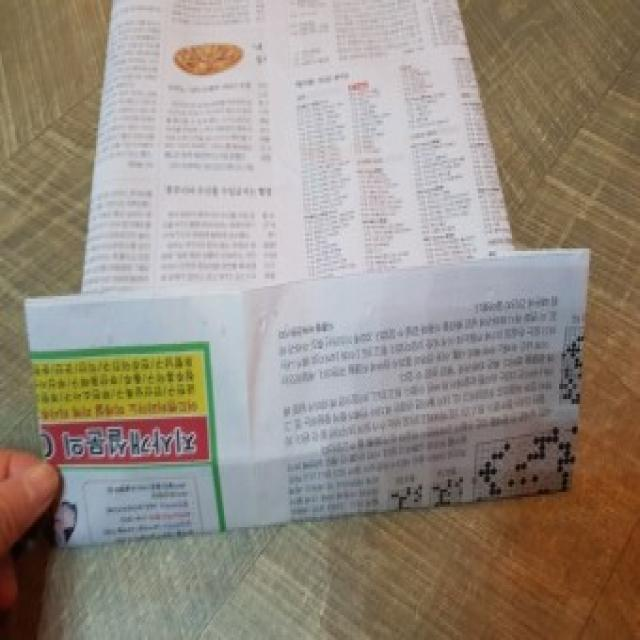Newspaper: (21, 0, 596, 558)
